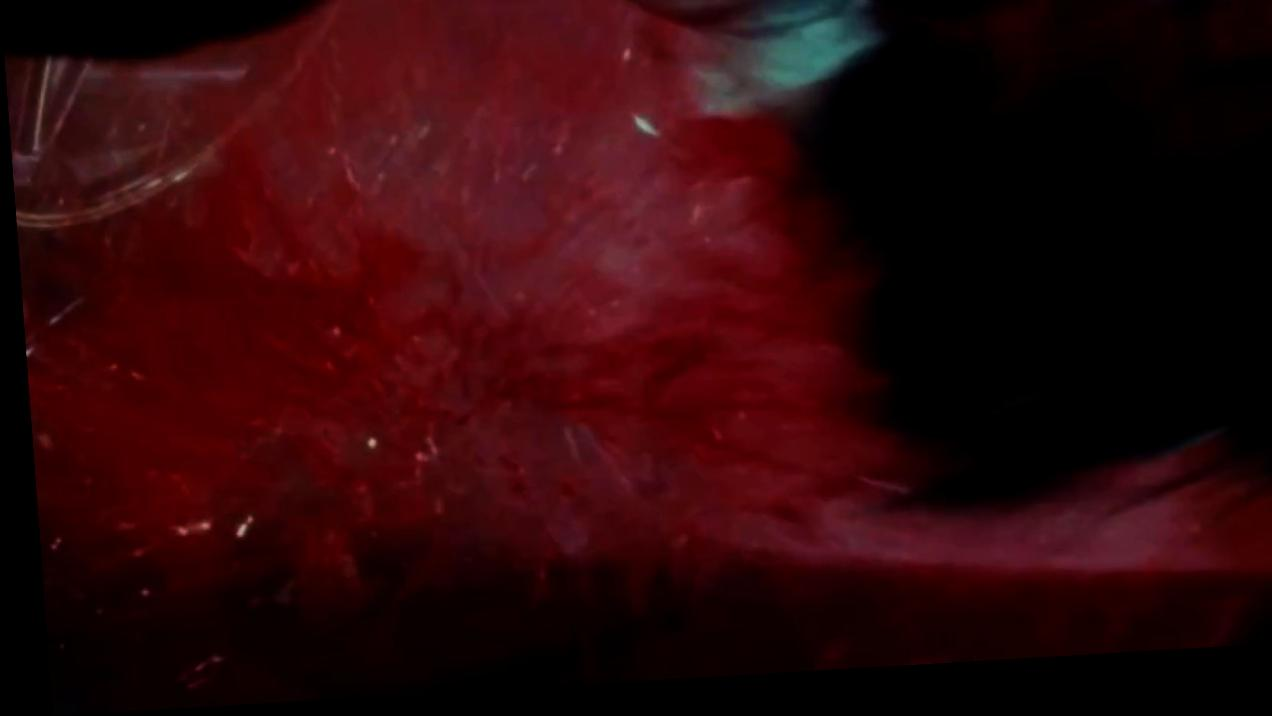Fire: (13, 106, 914, 609)
